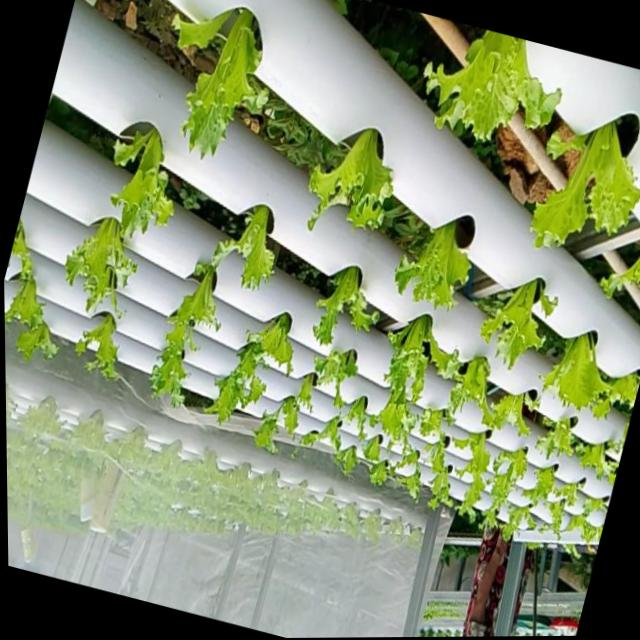Baby: (424, 31, 560, 141), (530, 125, 640, 250), (181, 8, 265, 159), (150, 257, 219, 405), (307, 128, 392, 230), (395, 215, 474, 307), (111, 127, 173, 237), (65, 217, 136, 312), (480, 278, 551, 369), (539, 333, 608, 414), (211, 204, 275, 289), (312, 265, 378, 345), (205, 342, 265, 423), (445, 349, 502, 428), (484, 447, 528, 525), (369, 385, 418, 446), (5, 256, 44, 332), (247, 312, 293, 374), (314, 348, 363, 406), (76, 313, 118, 378), (525, 466, 555, 505), (502, 505, 536, 538), (395, 443, 420, 476), (419, 408, 444, 436), (549, 499, 565, 536)
